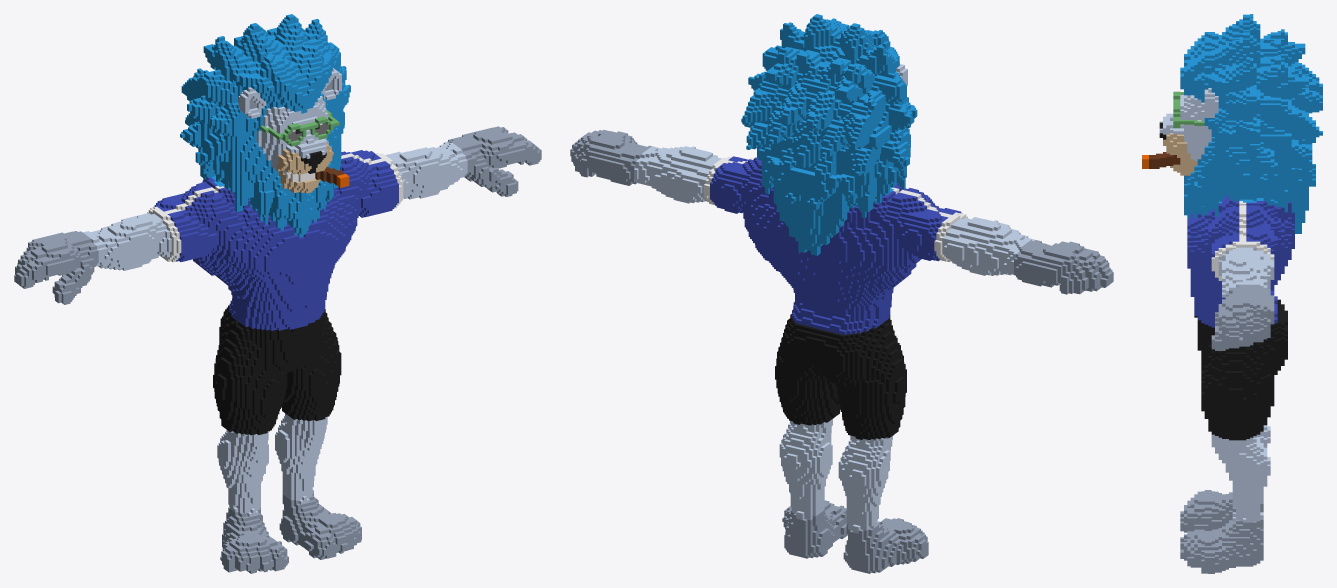
Rendered from 557-bDdKP6Kp.glb.
3 renders of one model, left to right at view 1: azimuth 30°, elevation 25°; view 2: azimuth 150°, elevation 25°; view 3: azimuth 270°, elevation 25°, orthographic. The views are drawn at different scales.
Visible parts, largest first — view 1: cigar; view 2: cigar; view 3: cigar.
Boxes of the visible parts, <box> form: cigar: <box>14,14,541,573</box>; cigar: <box>570,14,1113,573</box>; cigar: <box>1142,14,1322,573</box>.
Size of the model in its own units: 17.2 by 16.5 by 5.2.
5 materials, 5 textured.
